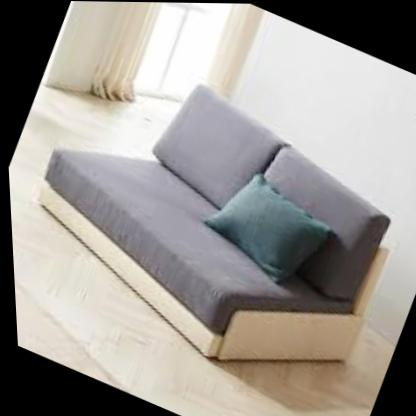Sofa: (1, 21, 416, 416)
